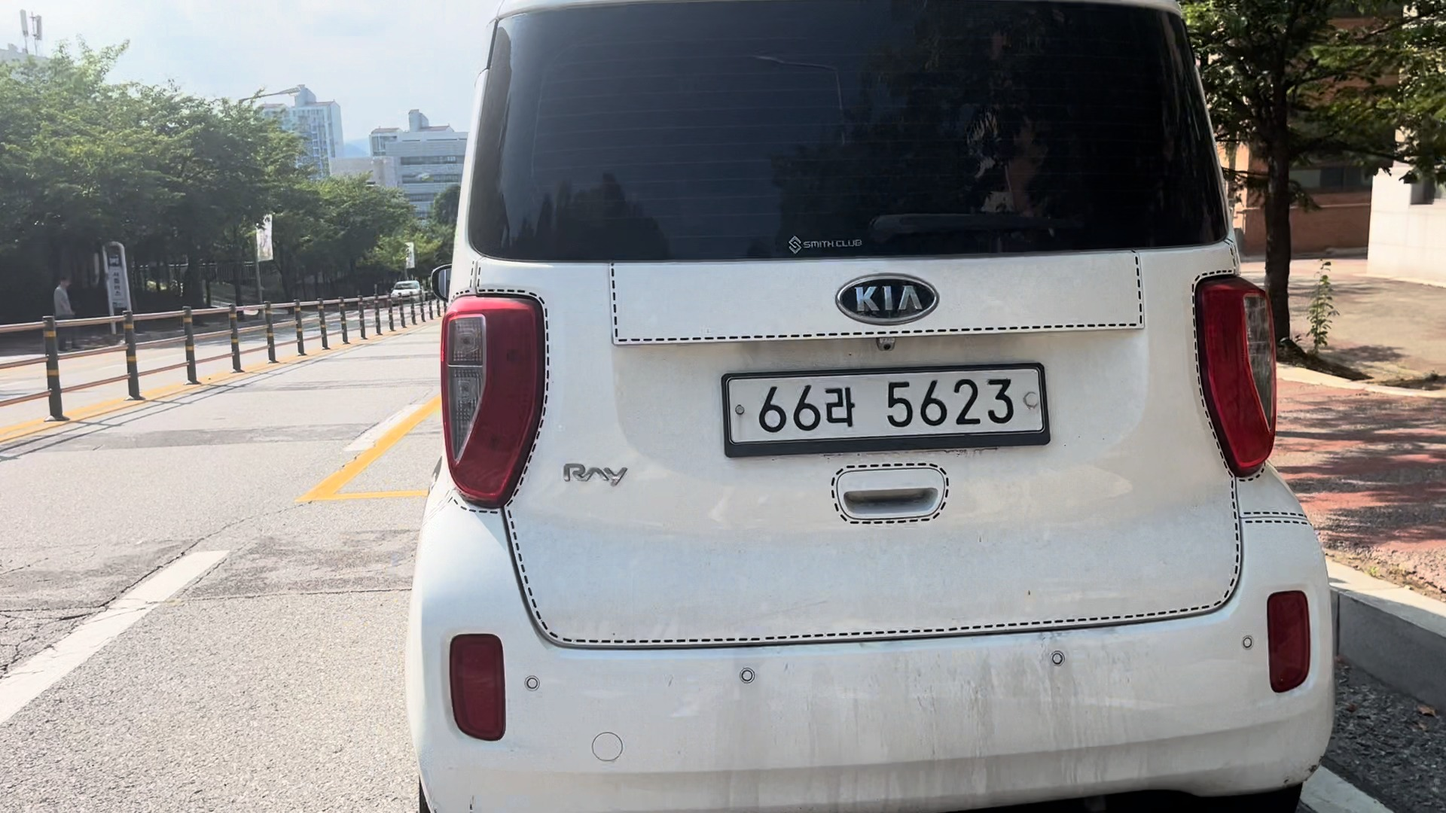car_emblem: (833, 276, 939, 324)
license_plate: (723, 364, 1048, 457)
tail_light: (441, 297, 544, 507), (1196, 276, 1276, 476), (449, 634, 505, 741), (1268, 591, 1310, 692)
